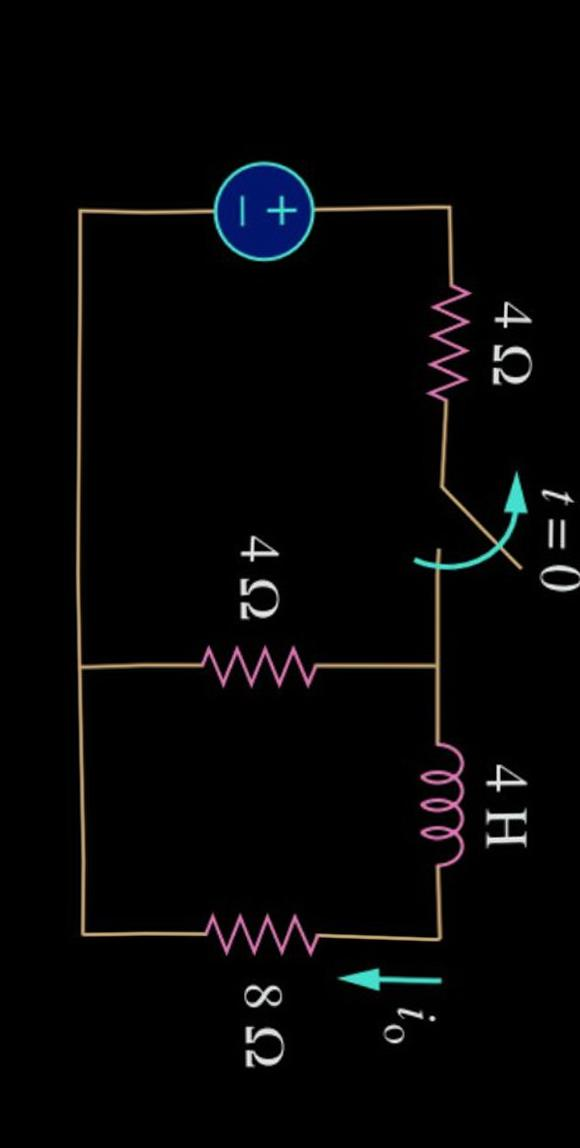Battery: (168, 134, 354, 302)
